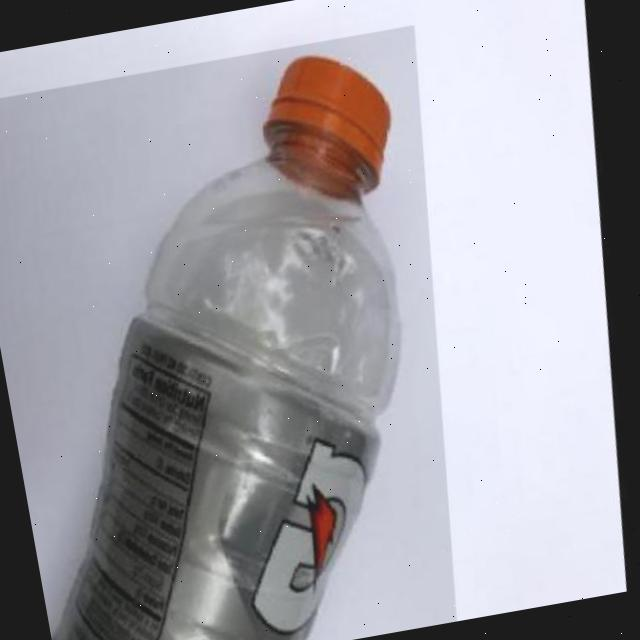trash: (0, 37, 483, 640)
